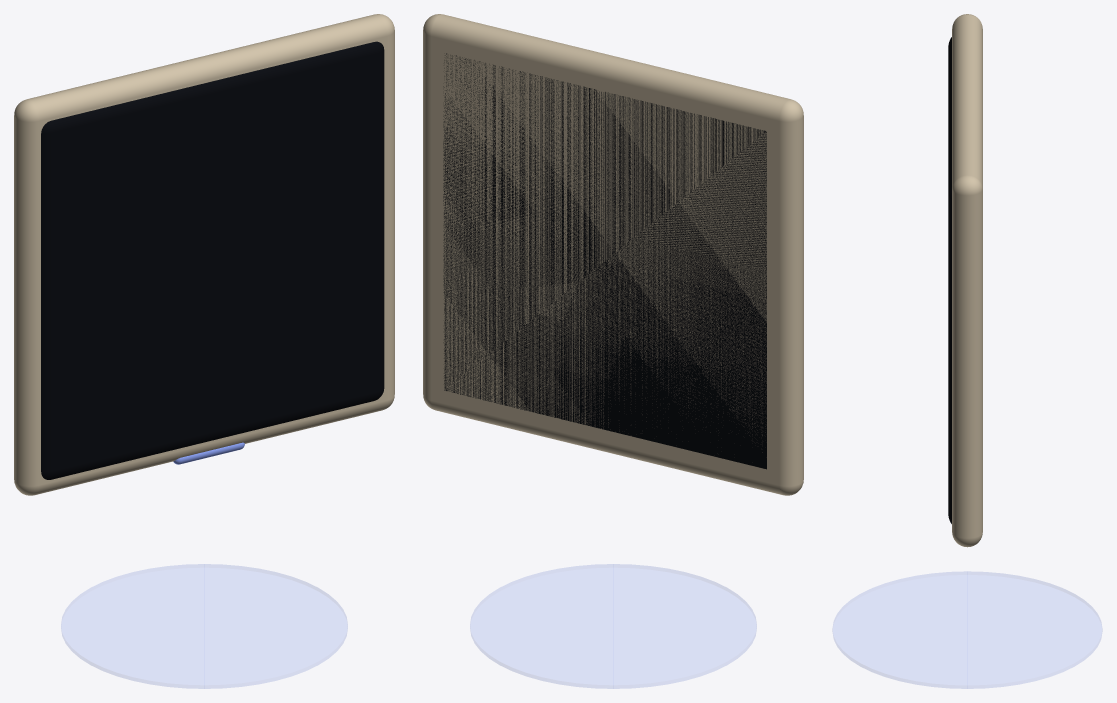
The model's file is bitiTile.glb.
The picture shows the model from 3 angles, left to right: view 1: azimuth 30°, elevation 25°; view 2: azimuth 150°, elevation 25°; view 3: azimuth 270°, elevation 25°; orthographic projection. The views are drawn at different scales.
Visible parts, largest first — view 1: screen, rim, hoverDisc, glassBody; view 2: rim, glassBody, hoverDisc; view 3: hoverDisc, rim, glassBody.
Part boxes in pixels (left/top/right/bottom): screen: left=55, top=56, right=374, bottom=468; rim: left=14, top=14, right=394, bottom=495; hoverDisc: left=61, top=564, right=347, bottom=688; glassBody: left=41, top=41, right=384, bottom=479; rim: left=423, top=14, right=803, bottom=495; glassBody: left=443, top=53, right=766, bottom=469; hoverDisc: left=470, top=564, right=756, bottom=688; hoverDisc: left=832, top=571, right=1102, bottom=688; rim: left=952, top=14, right=982, bottom=547; glassBody: left=948, top=37, right=951, bottom=523.
Bounding box in the file's own units: 0.212 × 0.307 × 0.14.
